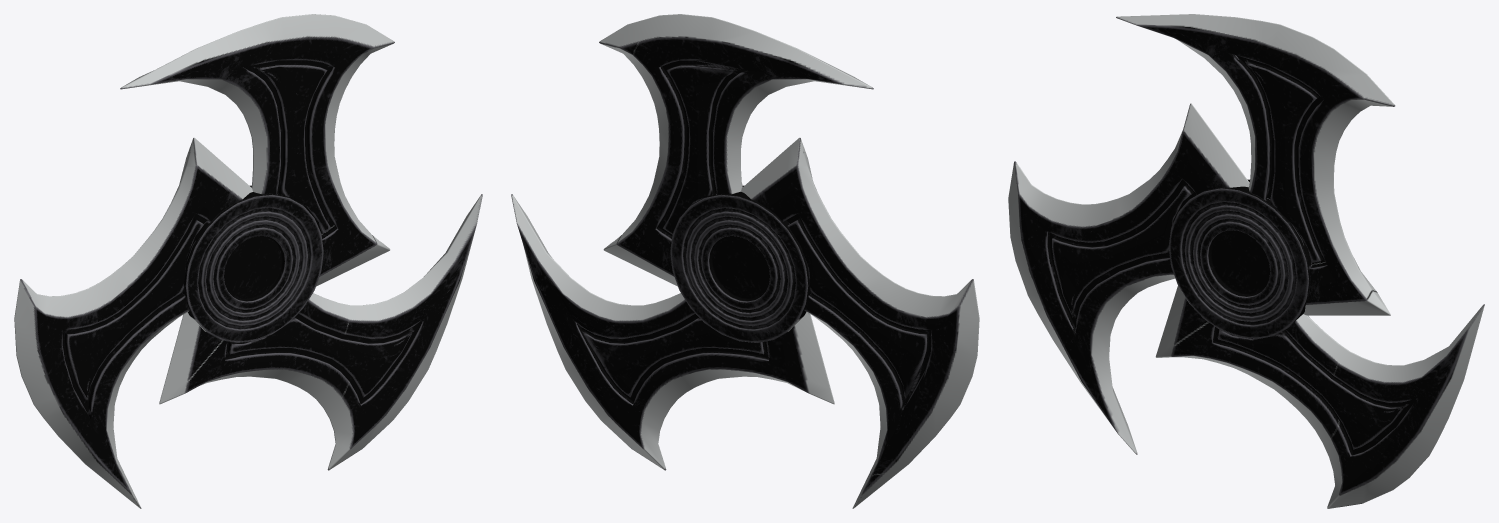
Rendered from fan.glb.
3 views of the same model, side by side, from view 1: azimuth 30°, elevation 25°; view 2: azimuth 150°, elevation 25°; view 3: azimuth 330°, elevation 25° (orthographic).
Parts seen in each view (by area): view 1: low; view 2: low; view 3: low.
Boxes of the visible parts, x1,y1,x2,y2 form: low: (14, 14, 482, 508); low: (511, 14, 979, 508); low: (1008, 14, 1484, 508).
Bounding box in the file's own units: 606 × 574 × 32.
Materials: 1 (1 with a texture image).
